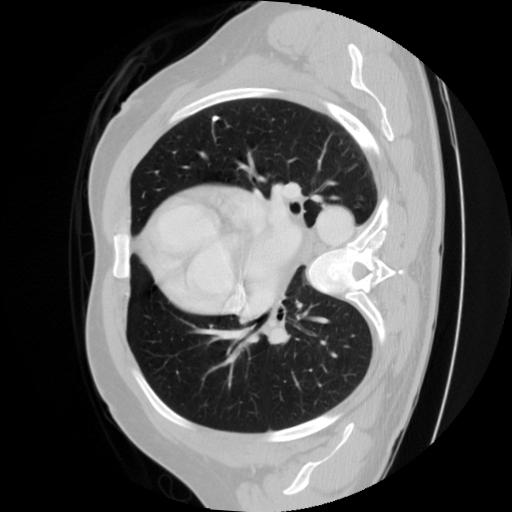nodule: (209, 113, 221, 125)
